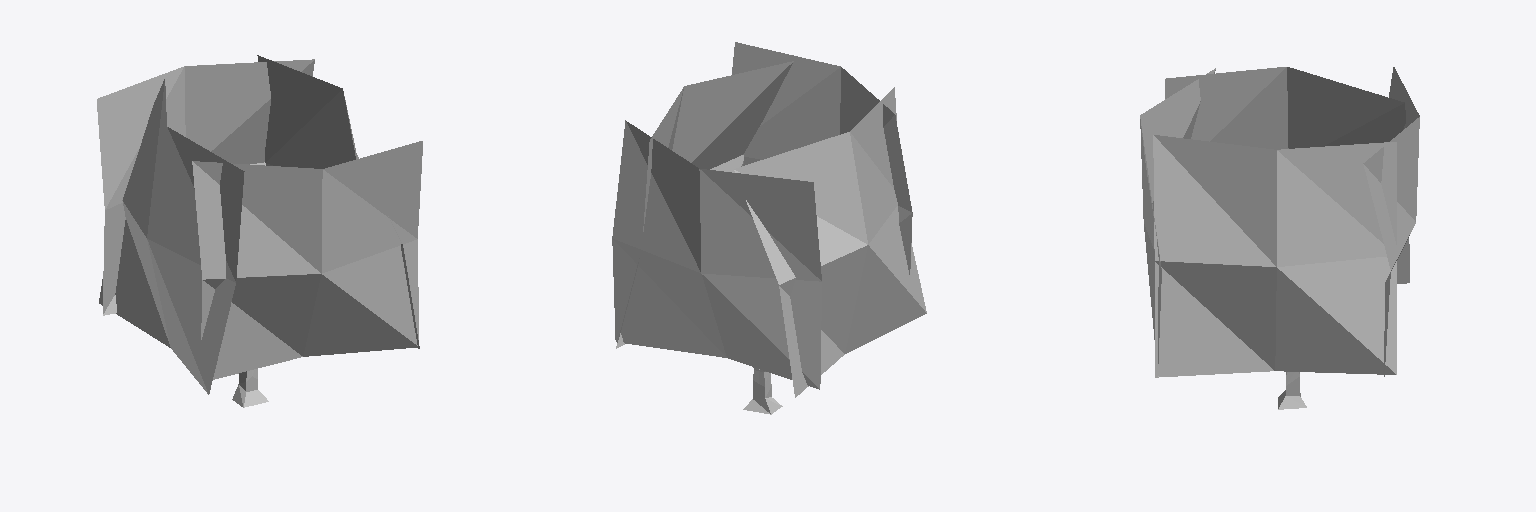
Rendered from tree_2_LOD.obj.
3 renders of one model, left to right at view 1: azimuth 30°, elevation 25°; view 2: azimuth 150°, elevation 25°; view 3: azimuth 270°, elevation 25°, orthographic.
Parts seen in each view (by area): view 1: Plane.002, Plane.001, Plane.004, Plane.003, Cubo; view 2: Plane.004, Plane.001, Plane.002, Plane.003, Cubo; view 3: Plane.003, Plane.001, Plane.004, Plane.002, Cubo.
Boxes of the visible parts, x1=… form: Plane.002: x1=192, y1=141, x2=422, y2=379; Plane.001: x1=99, y1=79, x2=244, y2=394; Plane.004: x1=97, y1=59, x2=314, y2=315; Plane.003: x1=257, y1=55, x2=419, y2=348; Cubo: x1=232, y1=369, x2=268, y2=407; Plane.004: x1=612, y1=120, x2=821, y2=389; Plane.001: x1=734, y1=87, x2=926, y2=397; Plane.002: x1=732, y1=42, x2=912, y2=274; Plane.003: x1=616, y1=61, x2=793, y2=348; Cubo: x1=743, y1=367, x2=782, y2=414; Plane.003: x1=1153, y1=135, x2=1396, y2=377; Plane.001: x1=1165, y1=67, x2=1409, y2=283; Plane.004: x1=1363, y1=67, x2=1419, y2=376; Plane.002: x1=1140, y1=68, x2=1215, y2=376; Cubo: x1=1278, y1=372, x2=1306, y2=409.
Size of the model in its own units: 16.15 by 21.8 by 18.7.